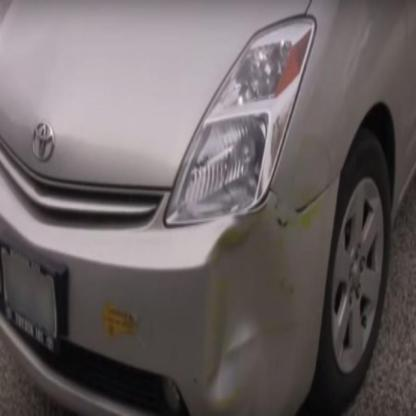front_bumper: (0, 176, 339, 416)
headlamp: (166, 17, 318, 224)
hood: (0, 2, 310, 186)
